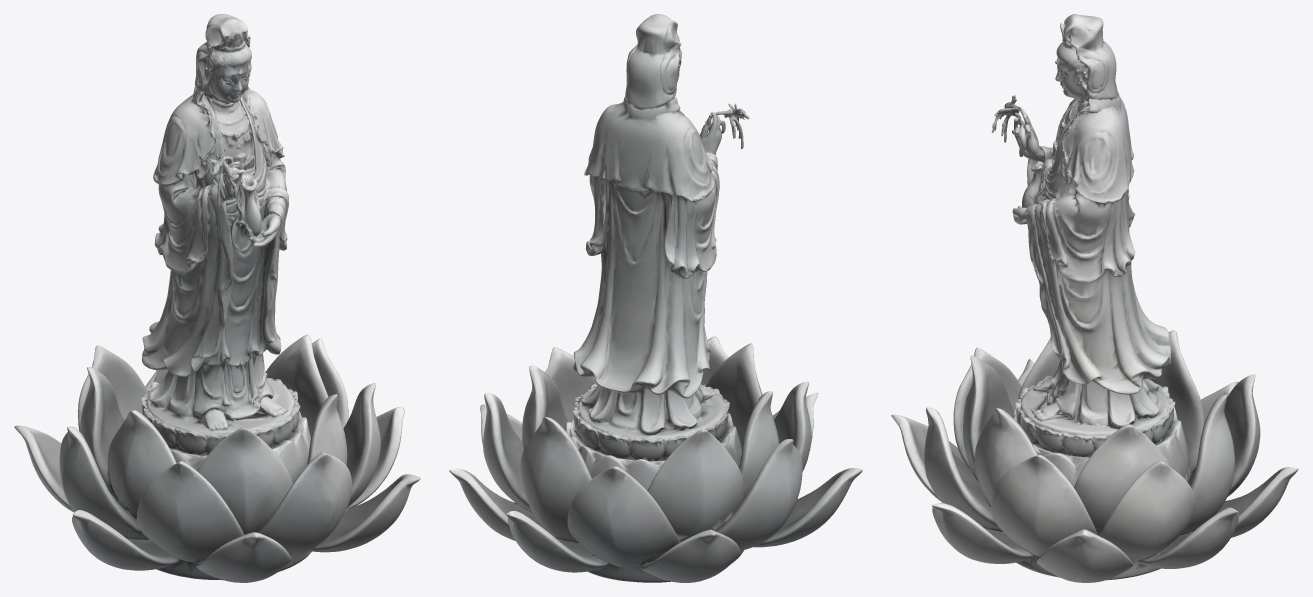
The model's file is statue.glb.
The picture shows the model from 3 angles, left to right: view 1: azimuth 30°, elevation 25°; view 2: azimuth 150°, elevation 25°; view 3: azimuth 270°, elevation 25°; orthographic projection.
Visible parts, largest first — view 1: tripo_node_36fe4fd2-055e-465c-9264-5427782f28d2; view 2: tripo_node_36fe4fd2-055e-465c-9264-5427782f28d2; view 3: tripo_node_36fe4fd2-055e-465c-9264-5427782f28d2.
Boxes of the visible parts, x1,y1,x2,y2 form: tripo_node_36fe4fd2-055e-465c-9264-5427782f28d2: [14, 14, 420, 582]; tripo_node_36fe4fd2-055e-465c-9264-5427782f28d2: [449, 14, 862, 582]; tripo_node_36fe4fd2-055e-465c-9264-5427782f28d2: [891, 14, 1298, 582].
Size of the model in its own units: 0.6946 by 0.9788 by 0.6866.
1 material, 1 textured.
